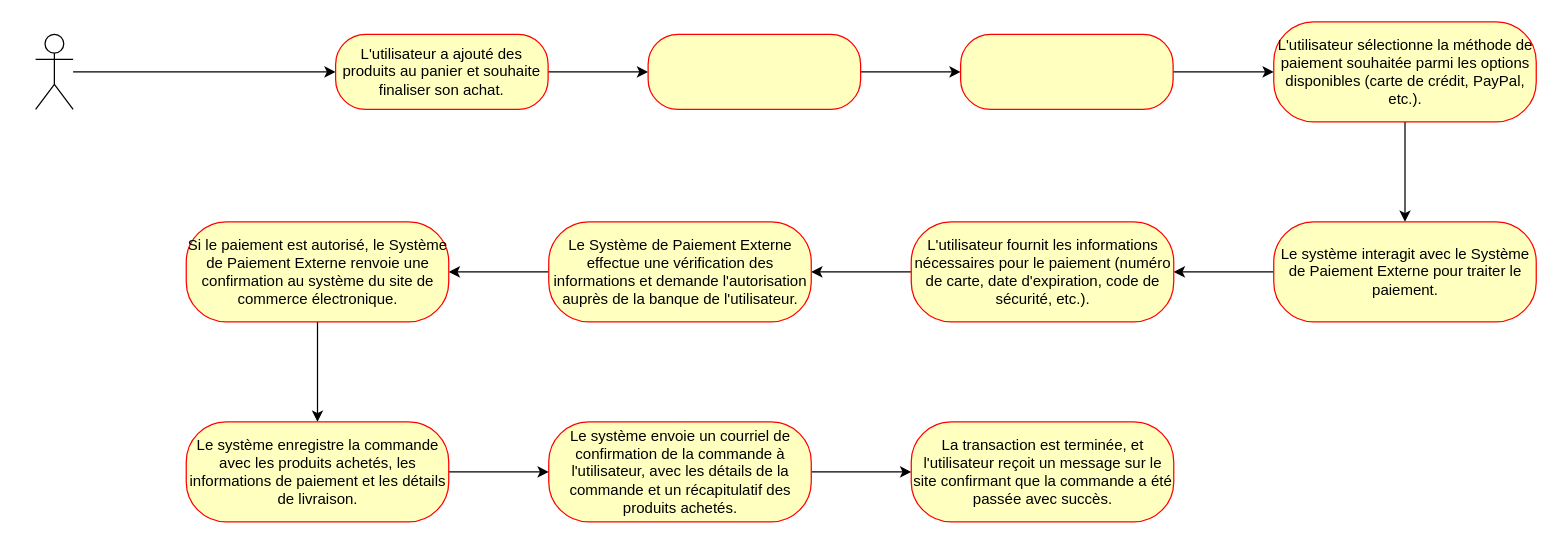
Image size: 1559x544. Some labels were removed from this diagram. The shapes that lost their labels are listed below. From the top down, each one's centre as x and y in pixels, then its label:
pixel 53 71: Utilisateur
pixel 754 71: L'utilisateur choisit de passer à la caisse pour effectuer le paiement.
pixel 1066 71: Le système demande à l'utilisateur de sélectionner une méthode de paiement.
